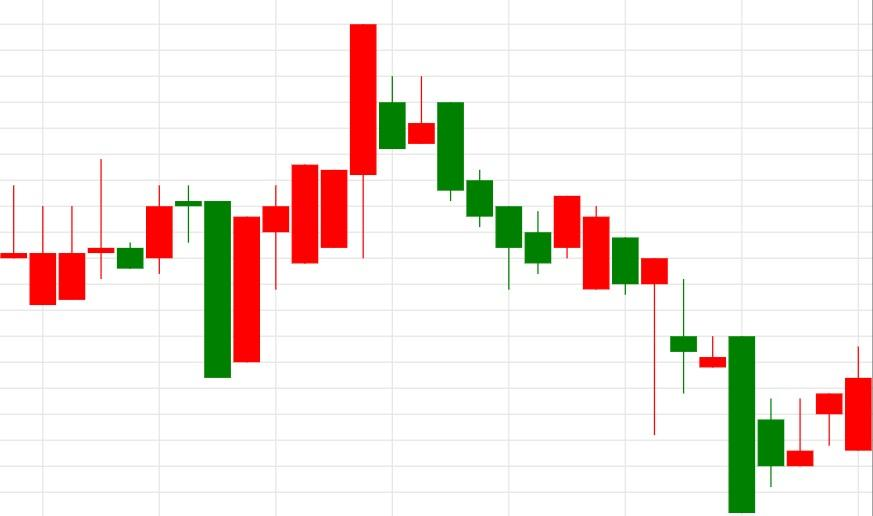evening_star_fall: (1, 158, 232, 379)
